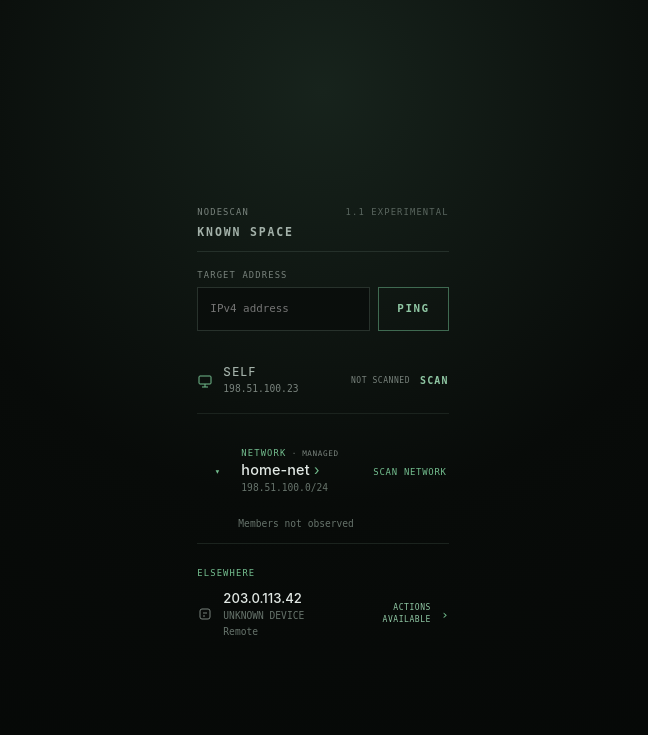
it: RackUpdate exploit and package submission › shows Rollback alone when that is the only exact supported provider owned
What coordinates should you click on to do the following:
click the button with aria-label "Open target 203.0.113.42"
I would click on:
 (323, 614)
Its box is [197,580,449,648].
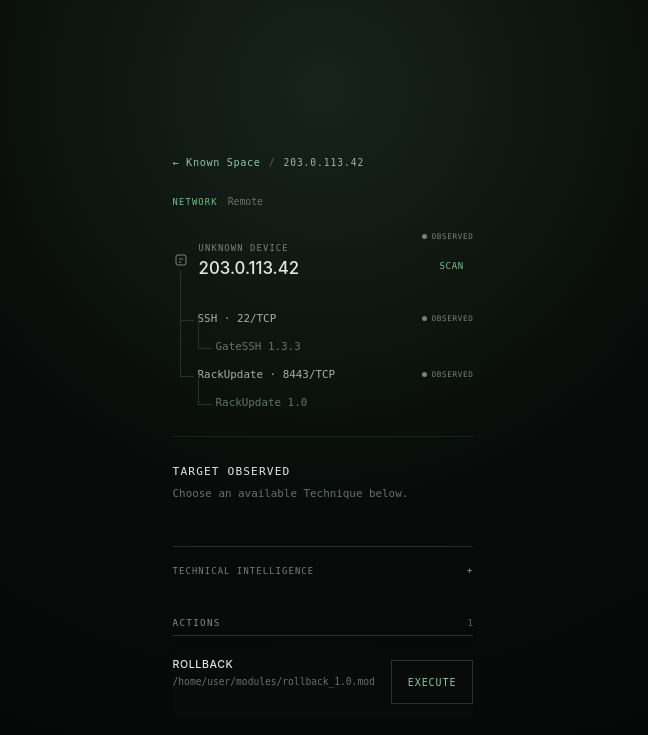
expect the element "ACTIONS" does not show "Credential Access": met, box [173,617,474,718]
expect the element "ACTIONS" shows "ROLLBACK": met, box [173,658,234,671]
expect the element "ACTIONS" shows "/home/user/modules/rollback_1.0.mod": met, box [173,676,375,687]
